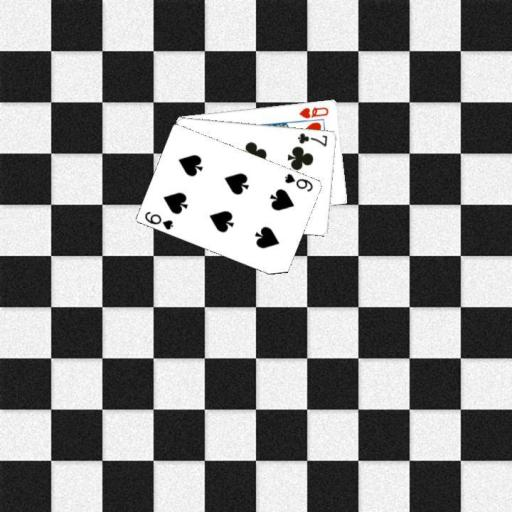6S: (141, 208, 175, 231), (282, 170, 314, 193)
7C: (295, 129, 329, 148)
QH: (296, 104, 330, 119)
